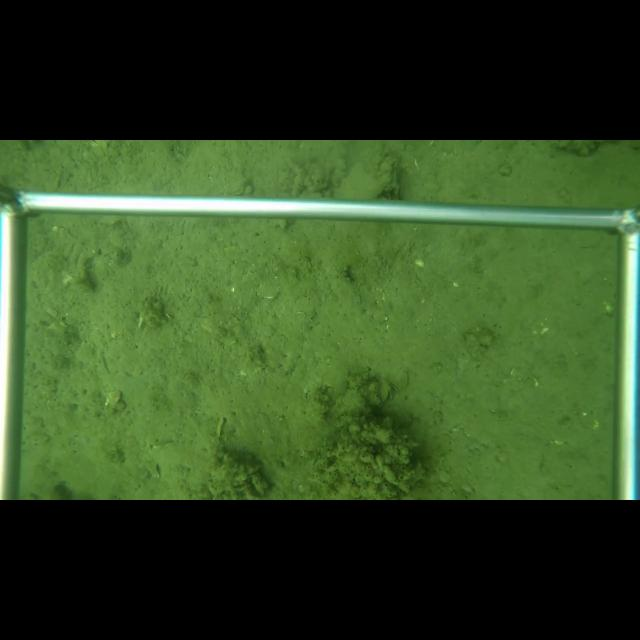Oyster-Closed: (376, 156, 406, 202)
